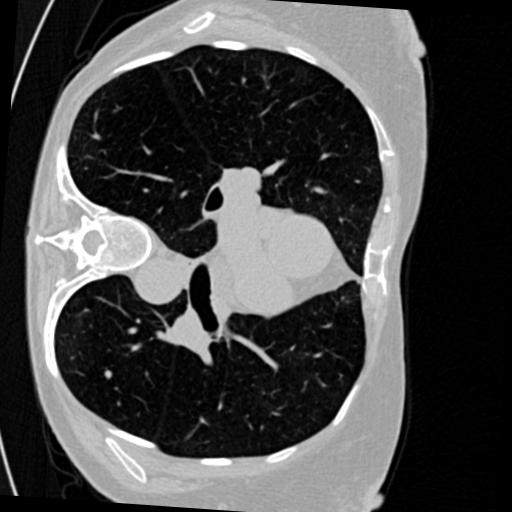nodule: (102, 367, 117, 382)
